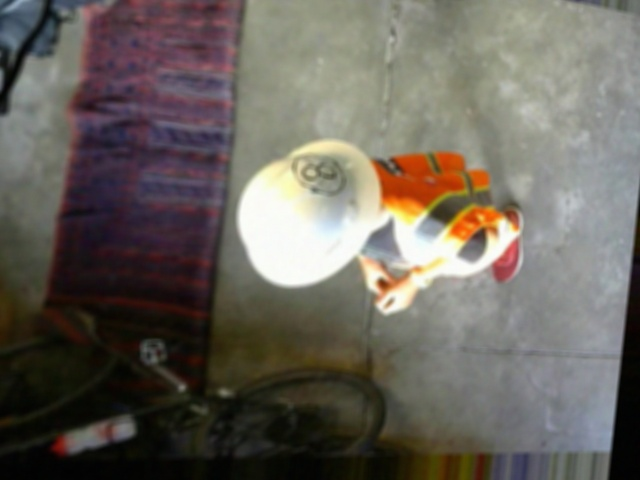eight: (287, 150, 348, 196)
